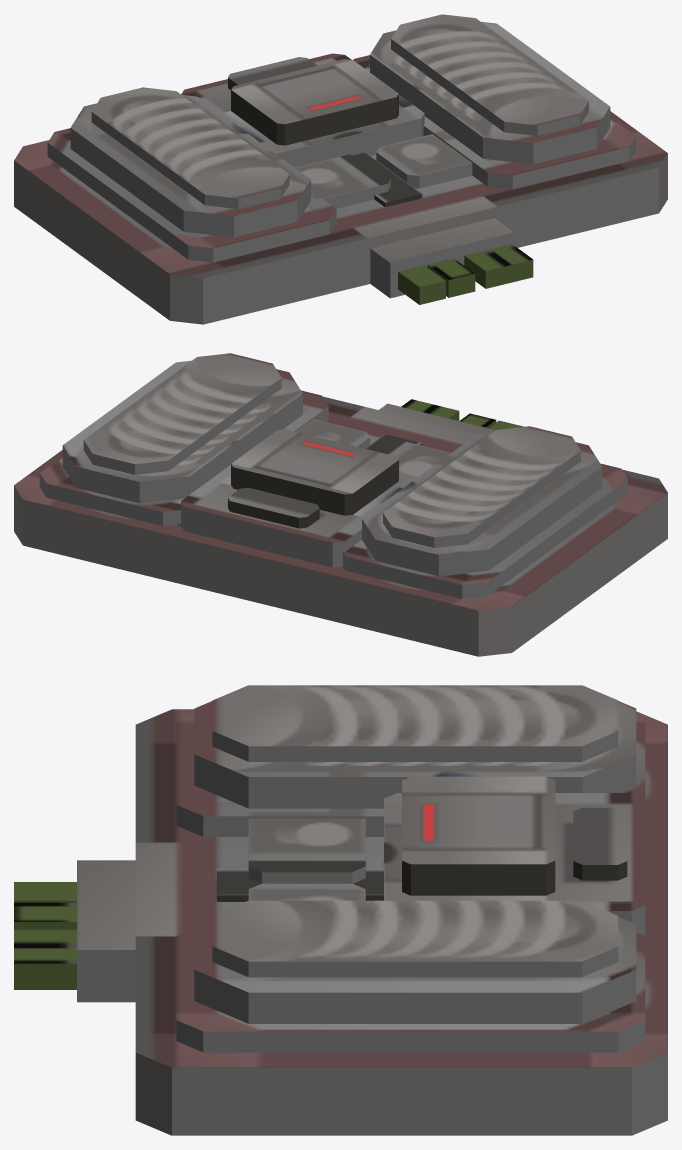
Rendered from Building_StandardRecharger.obj.
The picture shows the model from 3 angles, top to bottom: view 1: azimuth 30°, elevation 25°; view 2: azimuth 150°, elevation 25°; view 3: azimuth 270°, elevation 25°; orthographic projection. The views are drawn at different scales.
Visible parts, largest first — view 1: Body; view 2: Body; view 3: Body.
Part boxes in pixels (x1=…): Body: x1=14, y1=14, x2=667, y2=324; Body: x1=14, y1=353, x2=667, y2=656; Body: x1=14, y1=685, x2=667, y2=1135.
Bounding box in the file's own units: 2.94 × 0.52 × 2.27.
1 material, 1 textured.
